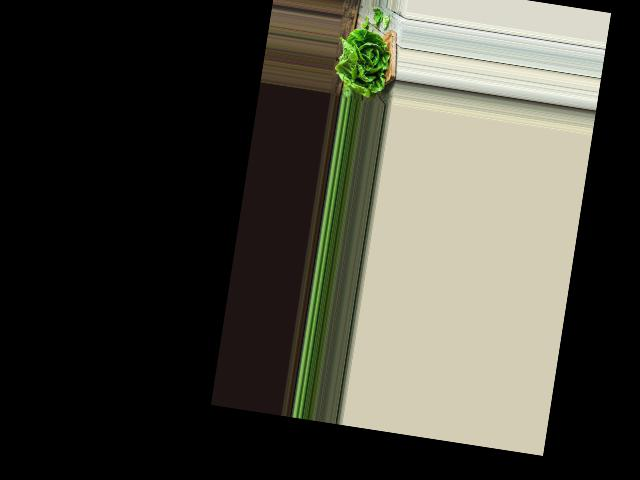lettuce: (332, 29, 395, 101)
